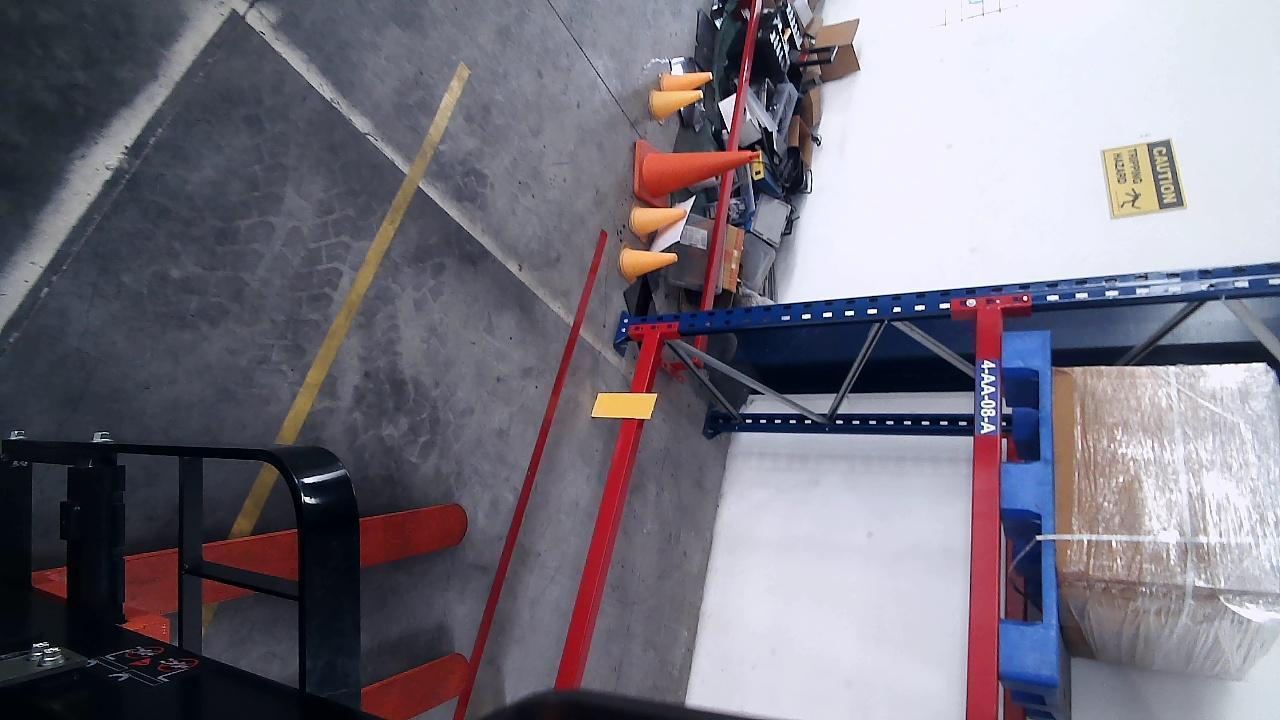red_line: (451, 228, 610, 718)
yellow_line: (273, 59, 474, 443)
